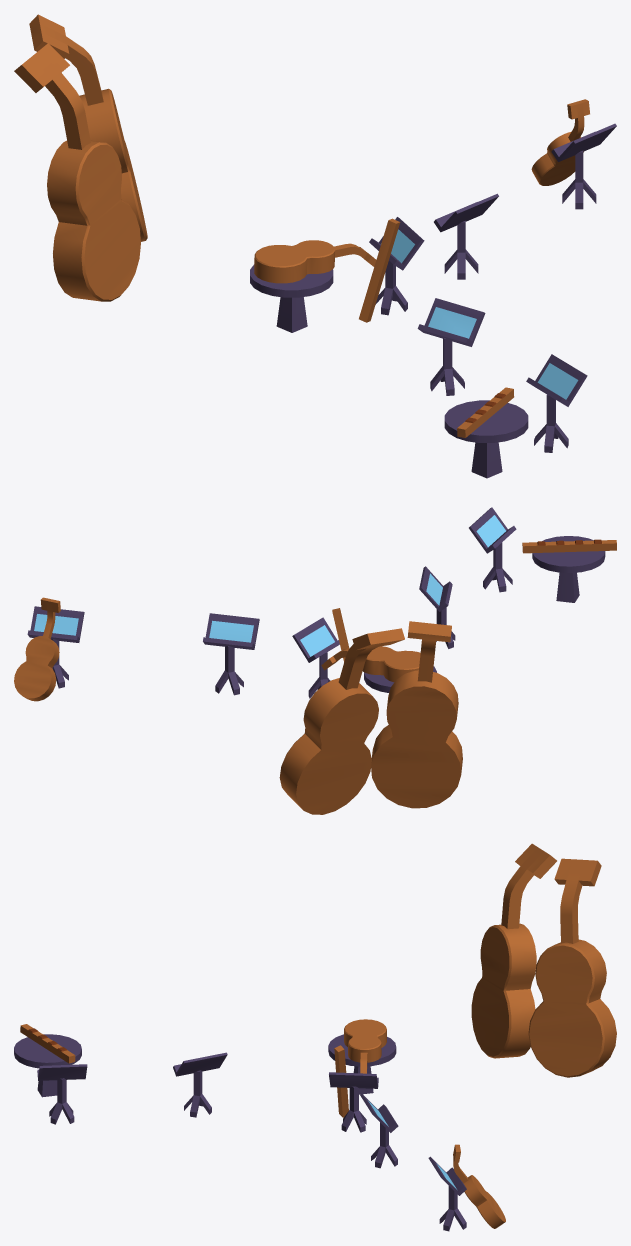
The model's file is Musicians.fbx.
3 views of the same model, one above another, from view 1: azimuth 30°, elevation 25°; view 2: azimuth 150°, elevation 25°; view 3: azimuth 270°, elevation 25° (orthographic). The views are drawn at different scales.
Parts seen in each view (by area): view 1: Musicians_LOD0; view 2: Musicians_LOD0; view 3: Musicians_LOD0.
Part boxes in pixels (<box>): Musicians_LOD0: <box>14,14,616,478</box>; Musicians_LOD0: <box>14,507,616,814</box>; Musicians_LOD0: <box>14,843,616,1231</box>.
Size of what is drawn, in the model's own units: 697 by 296 by 832.
